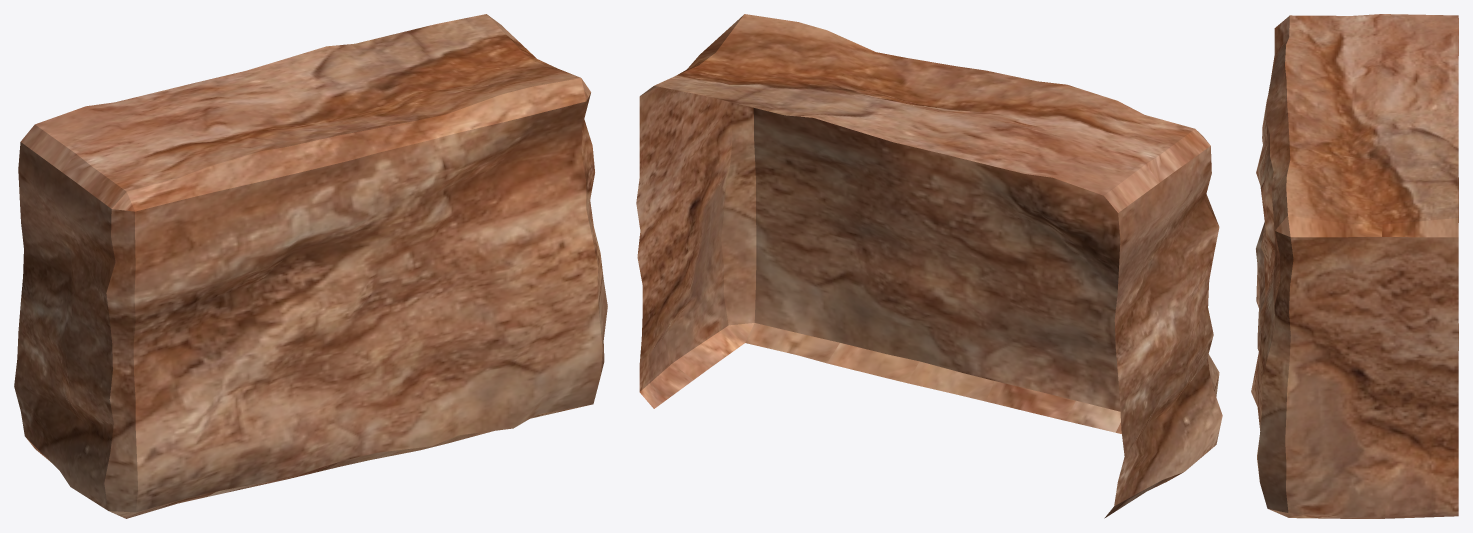
The model's file is env_model_rock_ledge_001.fbx.
3 renders of one model, left to right at view 1: azimuth 30°, elevation 25°; view 2: azimuth 150°, elevation 25°; view 3: azimuth 270°, elevation 25°, orthographic. The views are drawn at different scales.
Parts seen in each view (by area): view 1: pCube5; view 2: pCube5; view 3: pCube5.
Part boxes in pixels (left/top/right/bottom): pCube5: left=14, top=14, right=607, bottom=518; pCube5: left=636, top=14, right=1222, bottom=518; pCube5: left=1251, top=14, right=1458, bottom=518.
Size of the model in its own units: 378 by 243 by 147.
